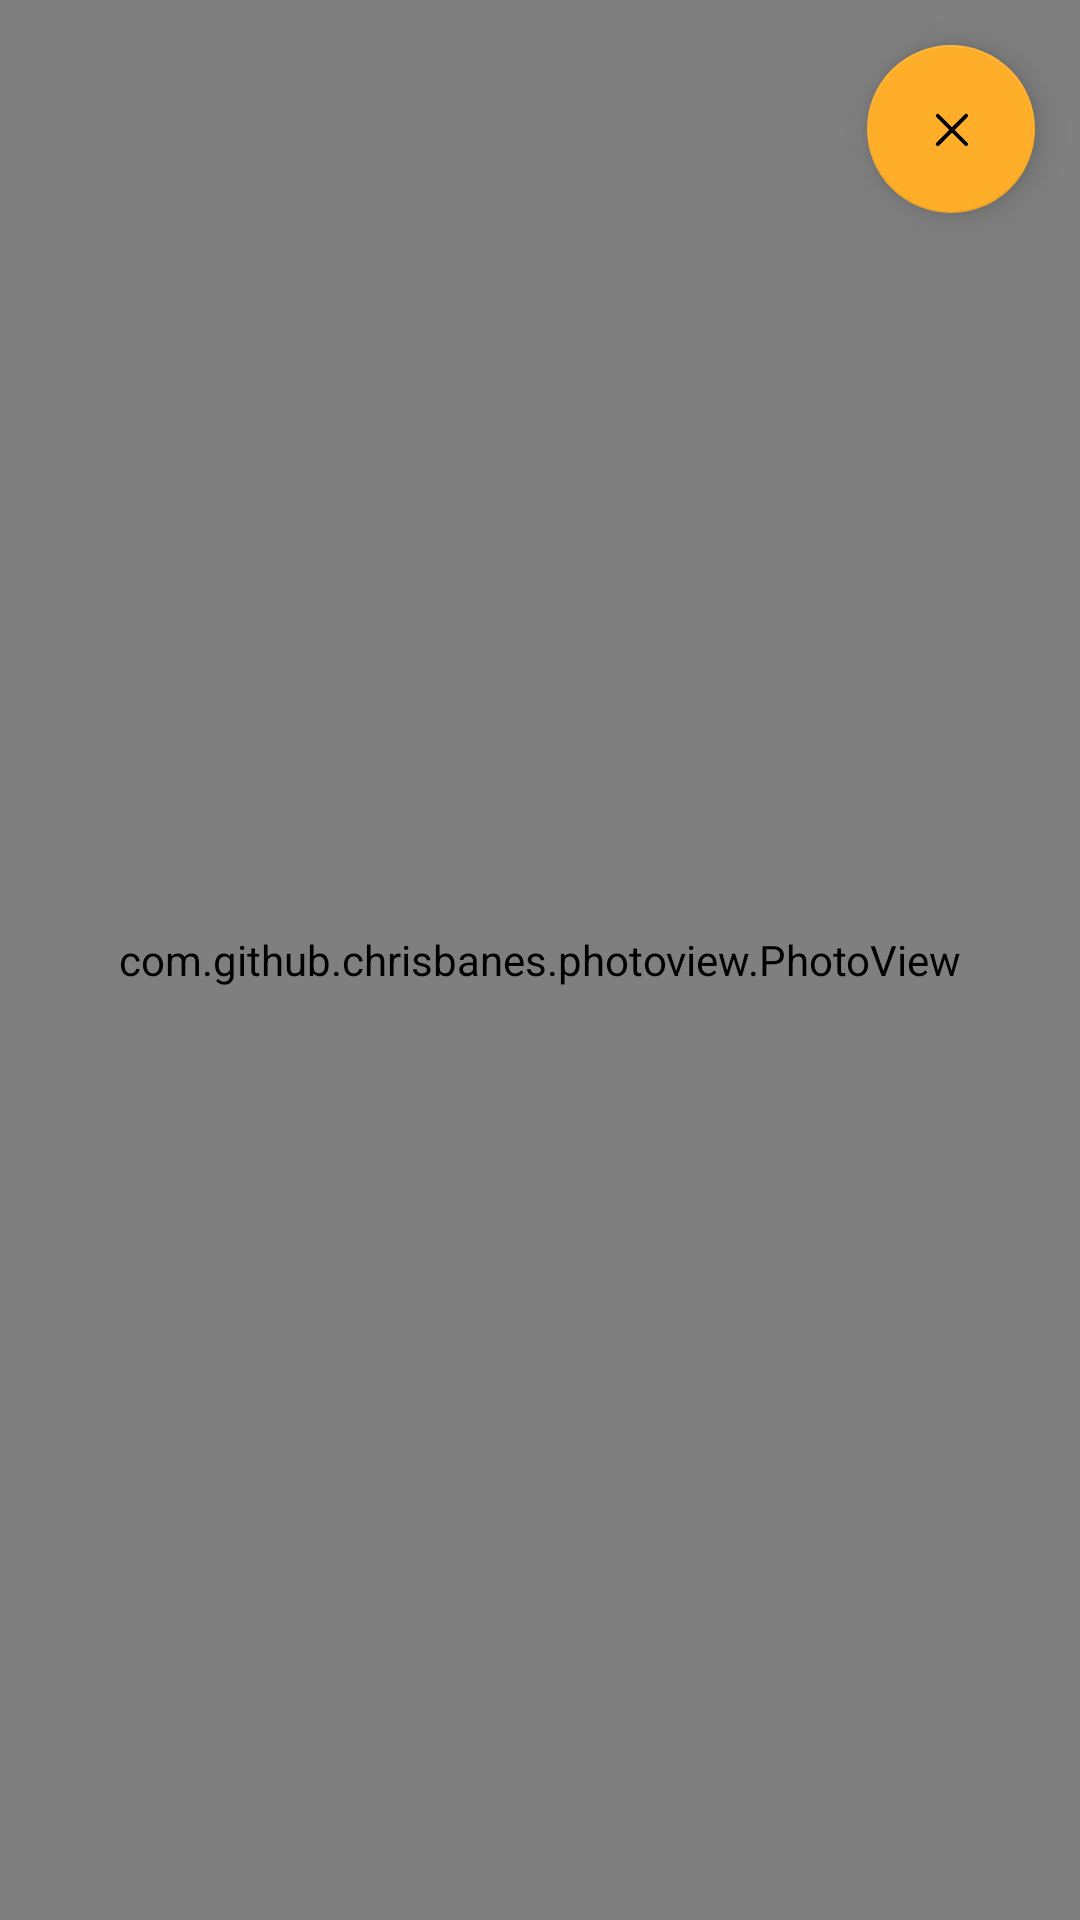

Icons on this 1080x1920 Android screen, each with its box as (left=x1, top=y1, right=x2, bottom=y2):
btnclose: (left=867, top=45, right=1035, bottom=213)
